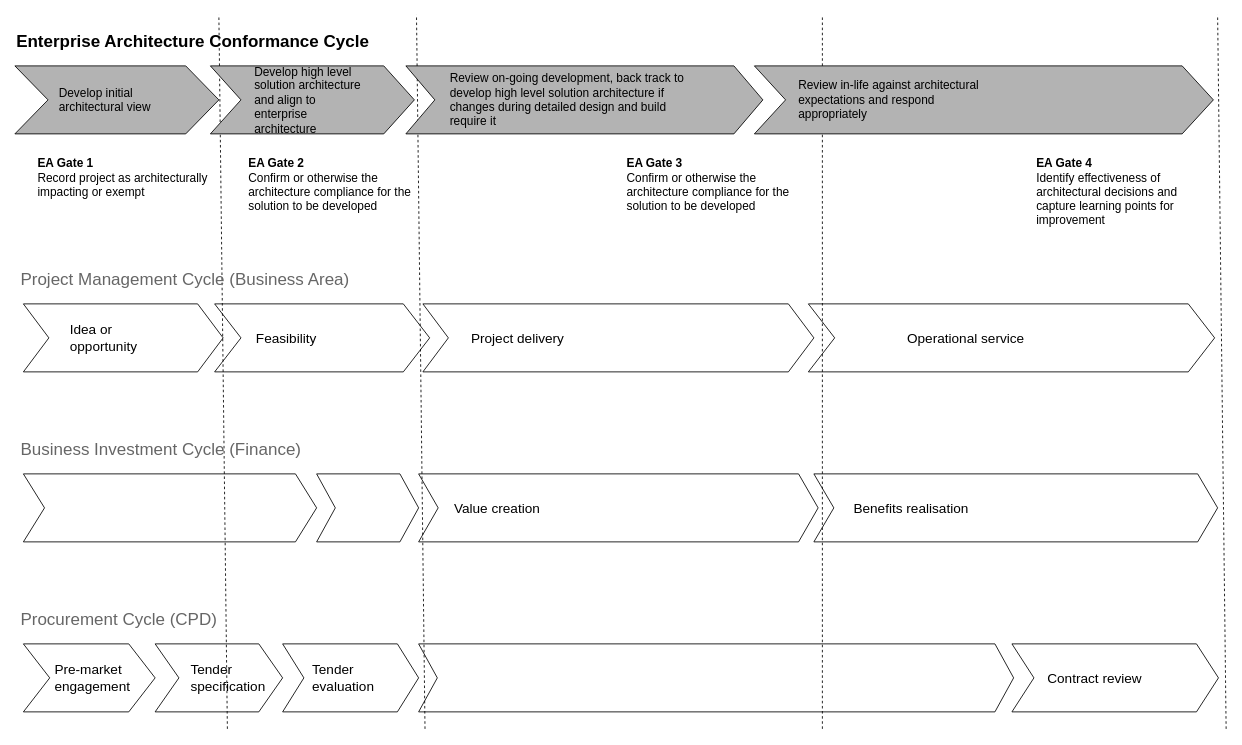
Some shapes in this 1242 by 745 pixel diagram are drawn without their labels. Here are the shapes that lost their labels. From the top down, the box of each, then its label:
(23, 473, 317, 542): Outline Business Case
(316, 473, 419, 542): Full Business Case
(418, 643, 1014, 712): Contract delivery
